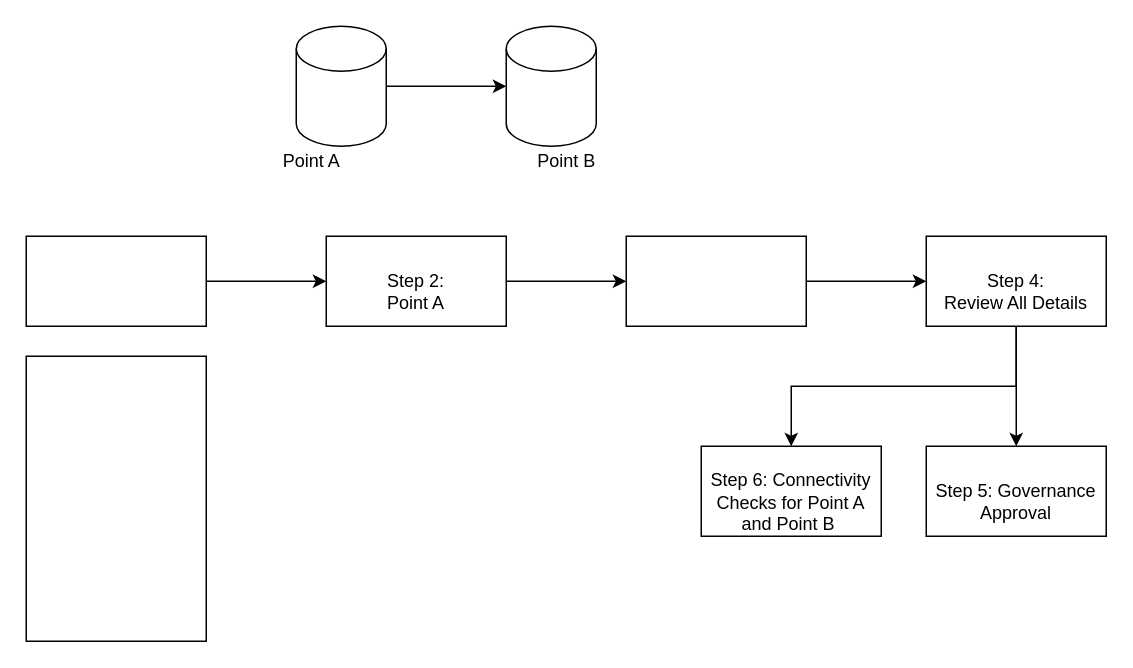
Image size: 1133x668. Some labels were removed from this diagram. The shapes that lost their labels are listed below. From the top down, each one's centre as x and y in pixels, then its label:
At [115,280]: "Step 1: Team Details".
At [715,280]: "Step 3: Point B".
